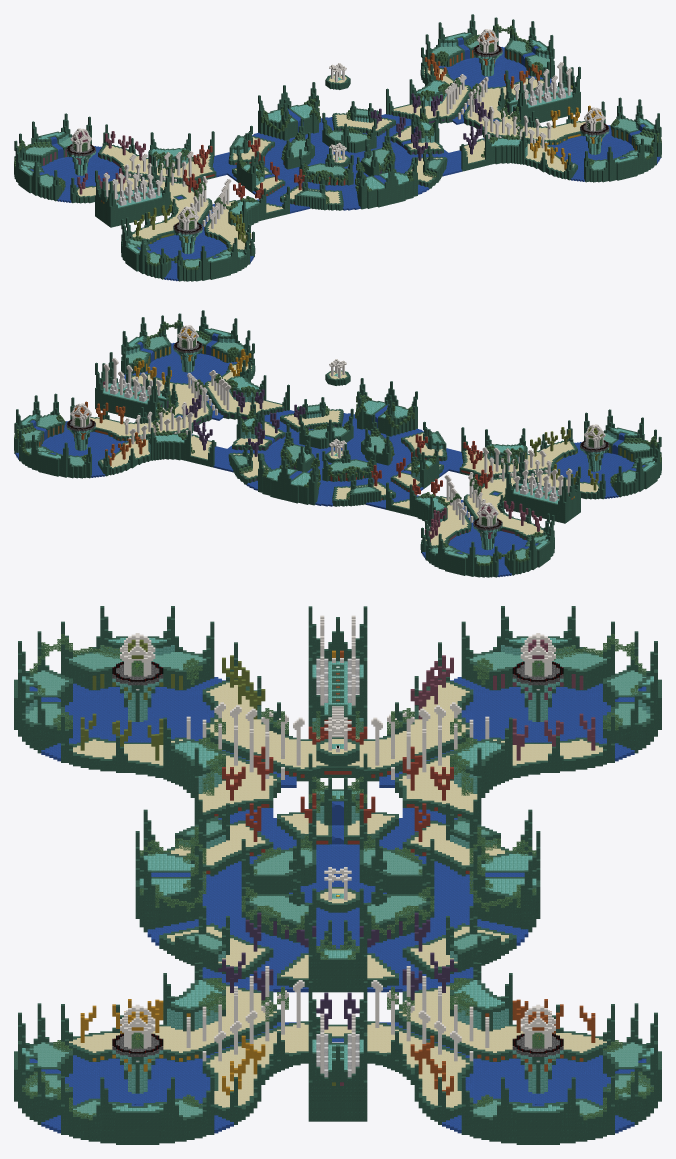
File: minecraft.obj
The picture shows the model from 3 angles, top to bottom: view 1: azimuth 30°, elevation 25°; view 2: azimuth 150°, elevation 25°; view 3: azimuth 270°, elevation 25°; orthographic projection. The views are drawn at different scales.
Size of the model in its own units: 287 by 52 by 165.
